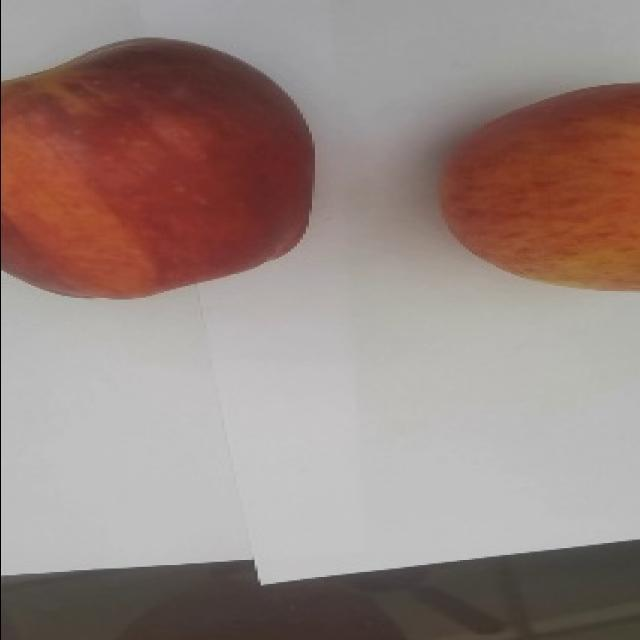Apple: (0, 35, 315, 300), (438, 81, 639, 292)
